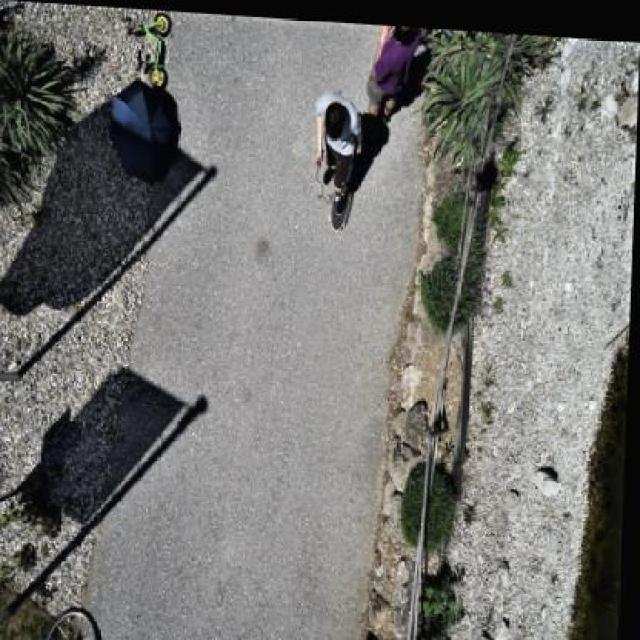Person: (314, 82, 378, 201), (359, 19, 426, 118)
